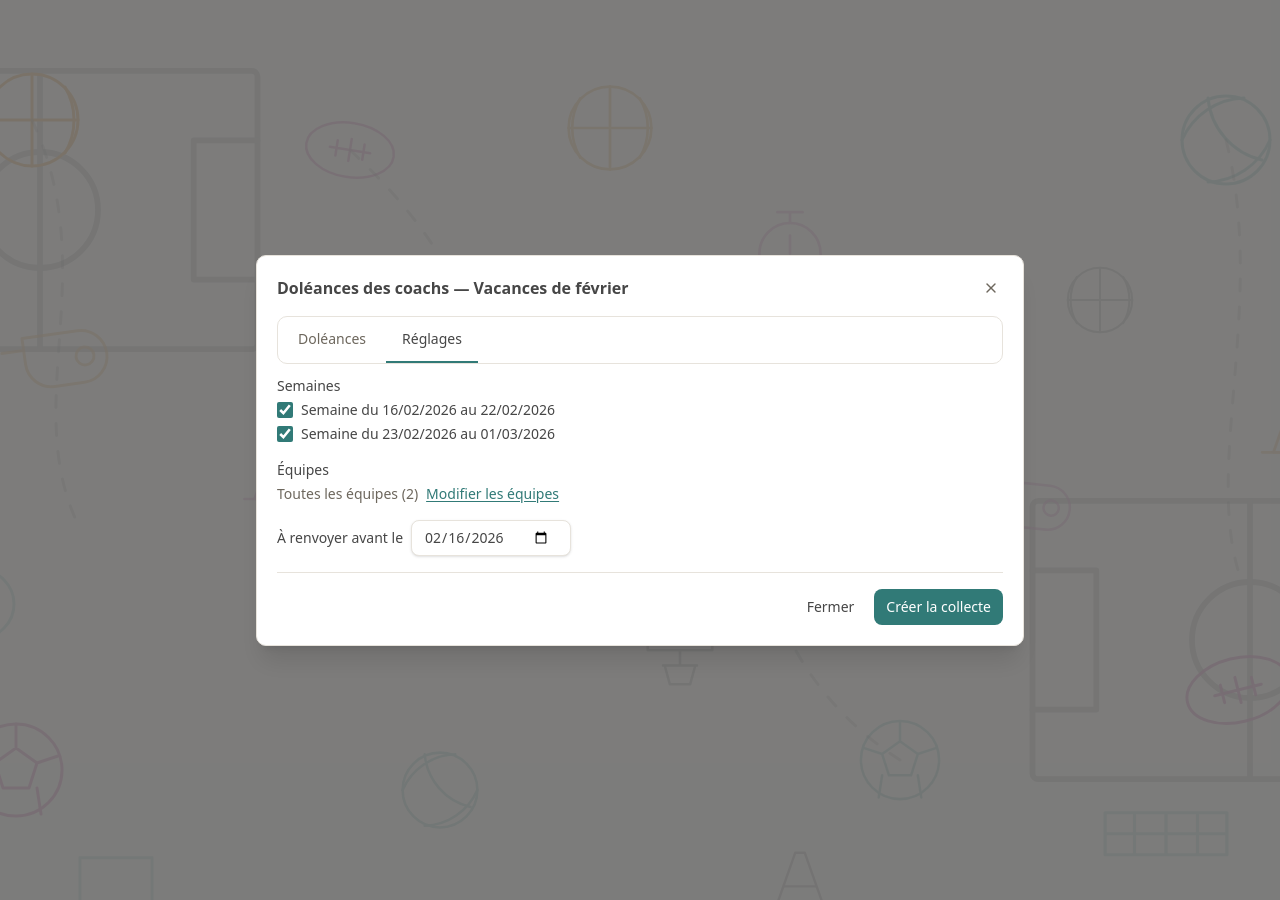
Test: CoachWishesHub › groupe les équipes du sélecteur par rang
This screenshot has width=1280, height=900.
Click the button "Modifier les équipes" at coordinates (493, 494), box [426, 484, 559, 504]
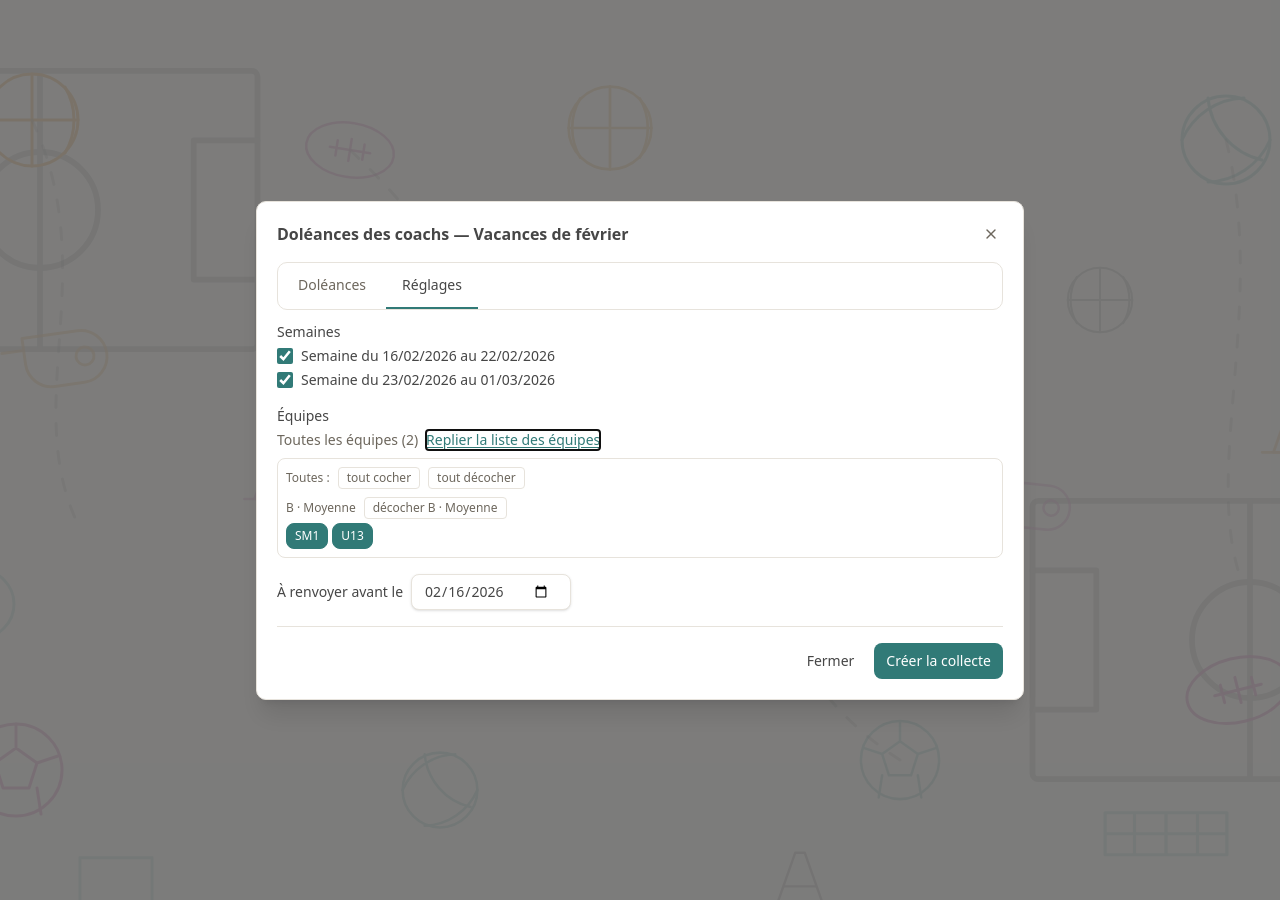
Result: the text "B · Moyenne" is shown at [286, 500, 356, 516]
